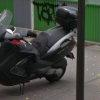Motorcycle: (1, 7, 76, 97)
